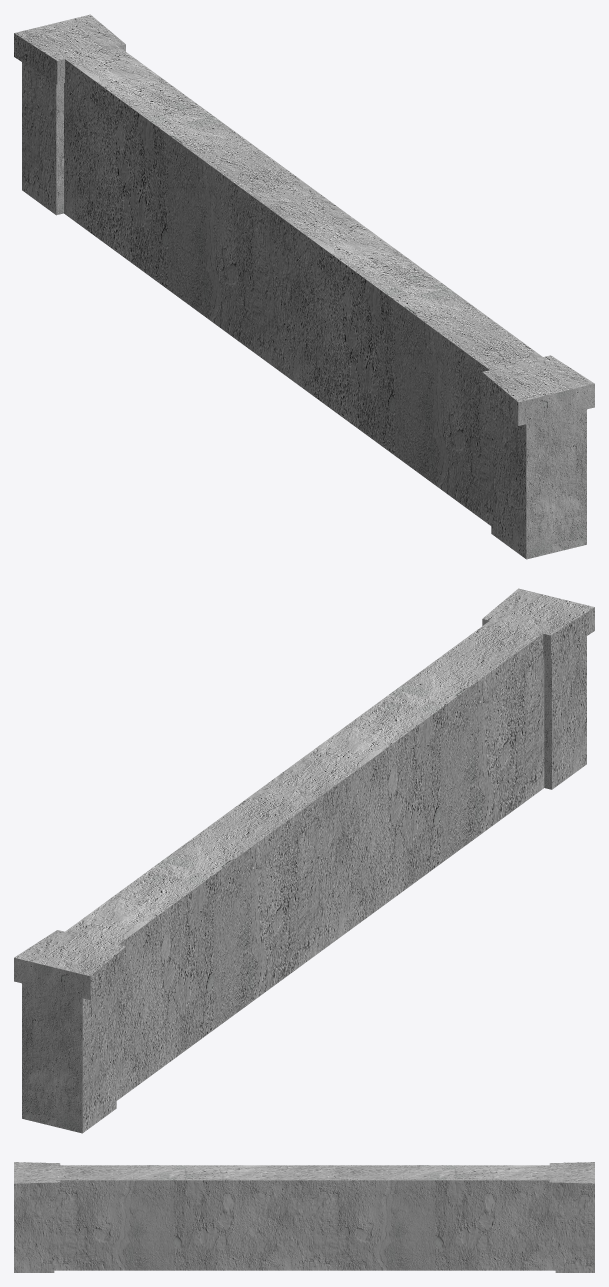
The model's file is Outer Wall Prison.fbx.
3 renders of one model, top to bottom at view 1: azimuth 30°, elevation 25°; view 2: azimuth 150°, elevation 25°; view 3: azimuth 270°, elevation 25°, orthographic. The views are drawn at different scales.
Parts seen in each view (by area): view 1: pCube9; view 2: pCube9; view 3: pCube9.
Part boxes in pixels (x1,y1,x2,y2): pCube9: (14, 14, 594, 559); pCube9: (14, 588, 594, 1133); pCube9: (14, 1162, 594, 1272).
Size of the model in its own units: 30.23 by 60.03 by 345.
